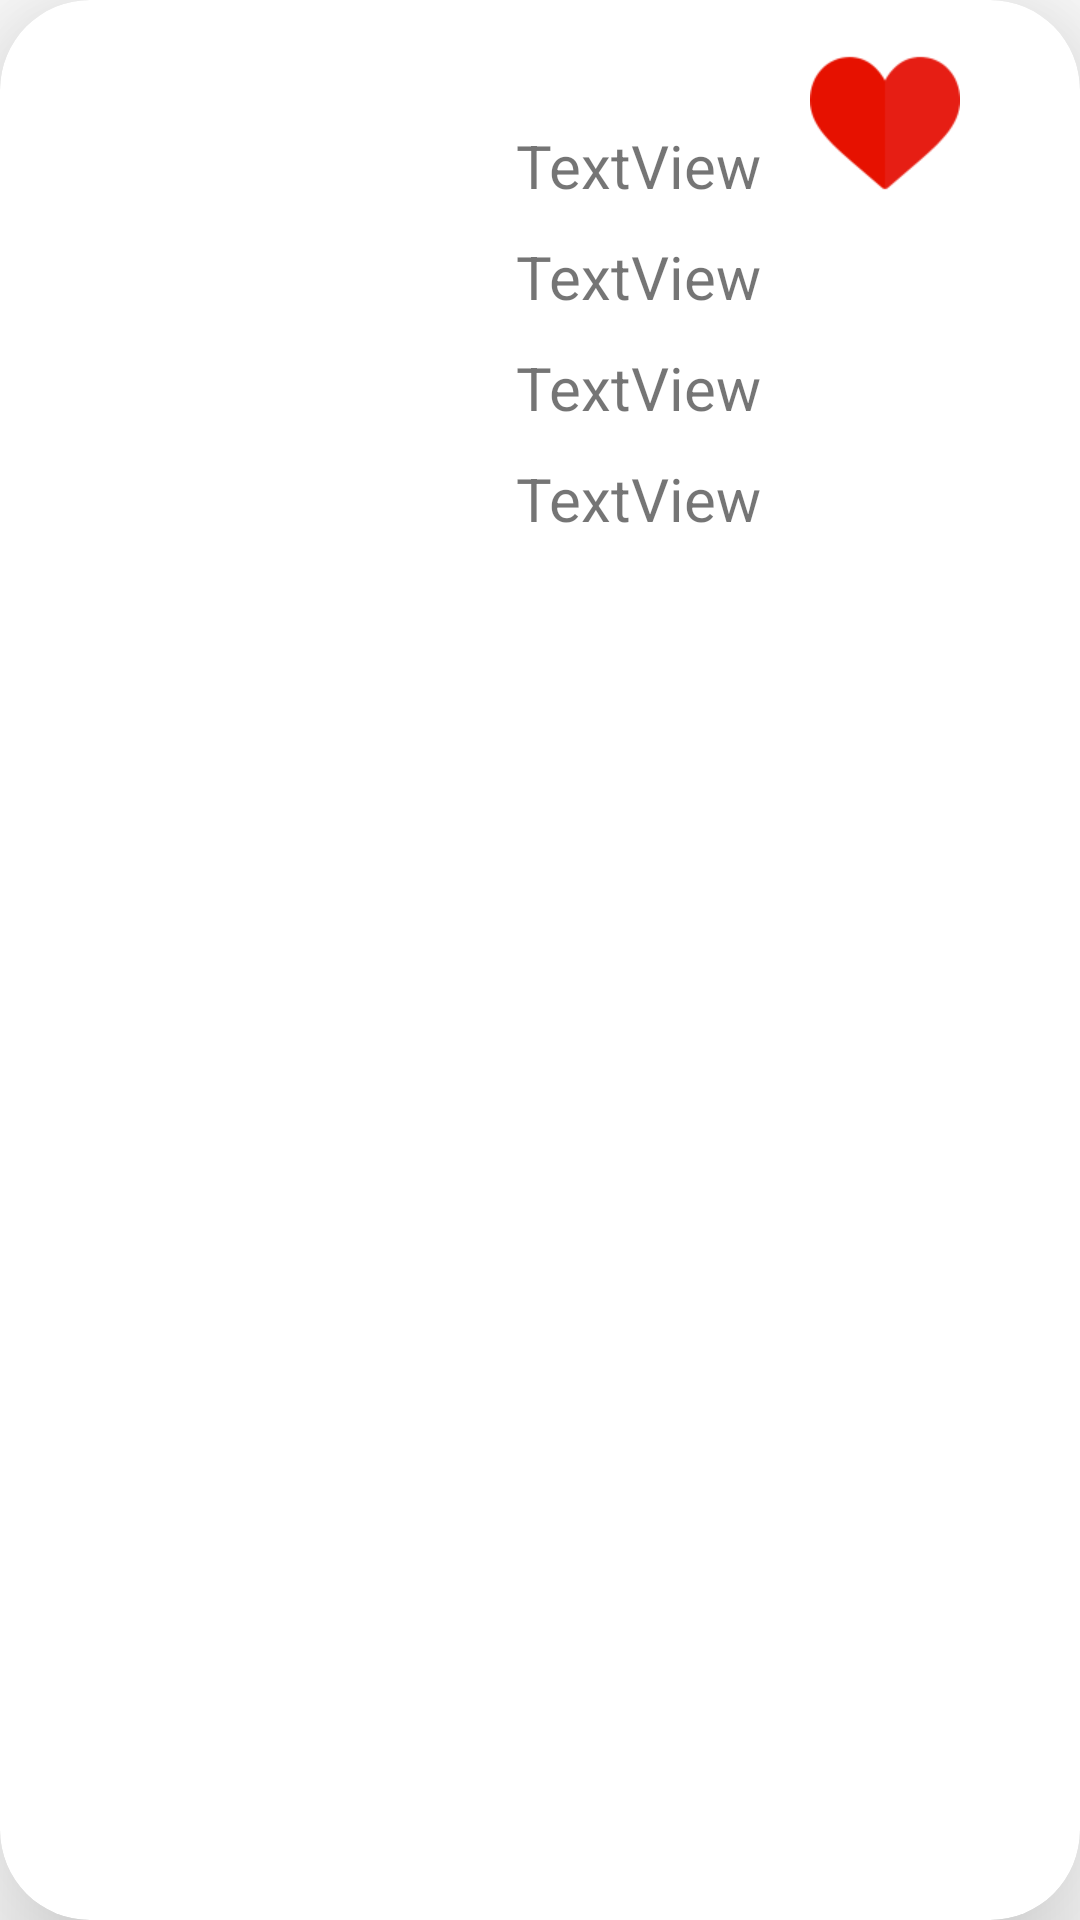

Icon click points for this 1080x1920 phone screenshot, format (x,y):
kalp: (885,123)
